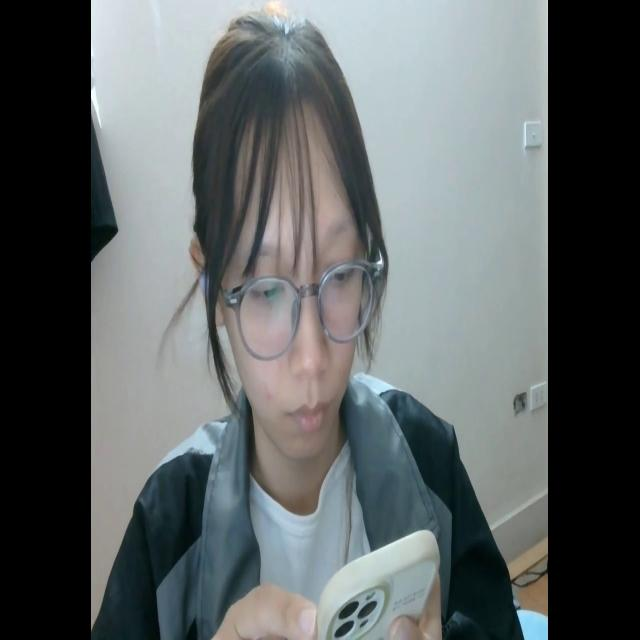phone: (312, 519, 440, 640)
student: (101, 0, 526, 640)
